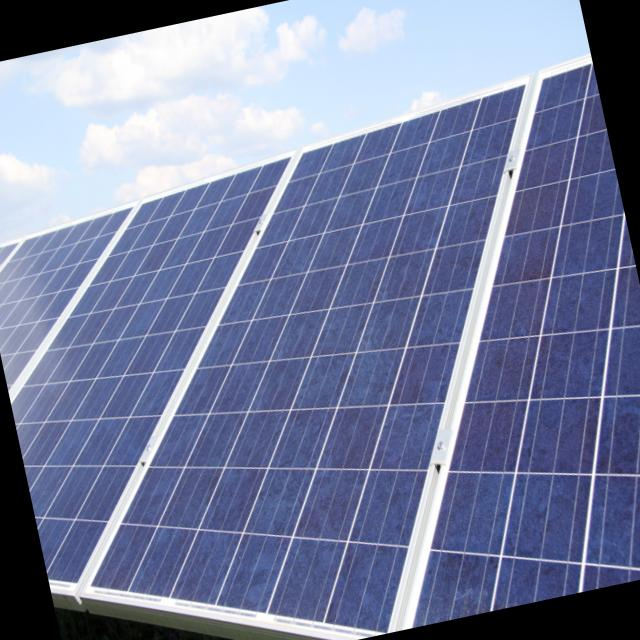no faulty: (0, 66, 640, 629)
